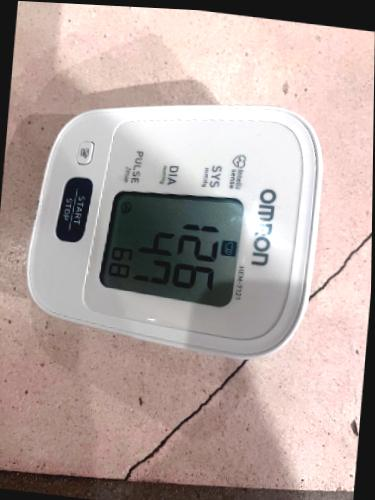bpm: (94, 172, 252, 313)
